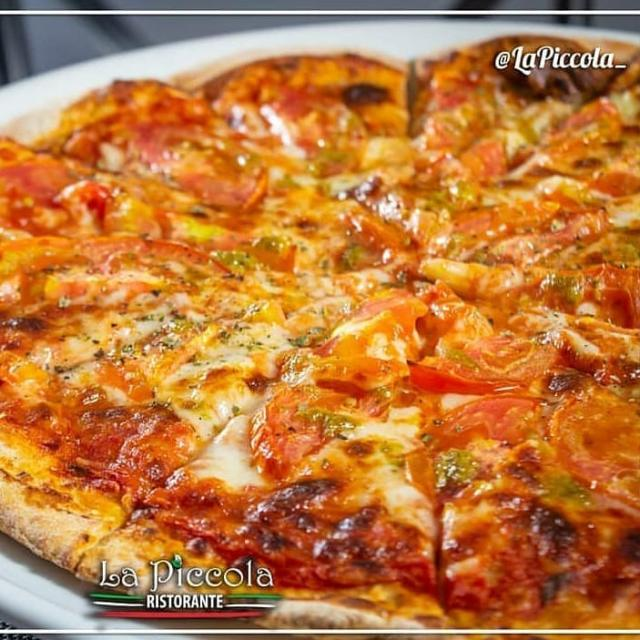pizza: (0, 31, 640, 628)
tomatoes: (245, 373, 405, 481), (67, 231, 241, 282), (424, 388, 549, 452), (399, 350, 533, 399), (590, 264, 640, 328)
